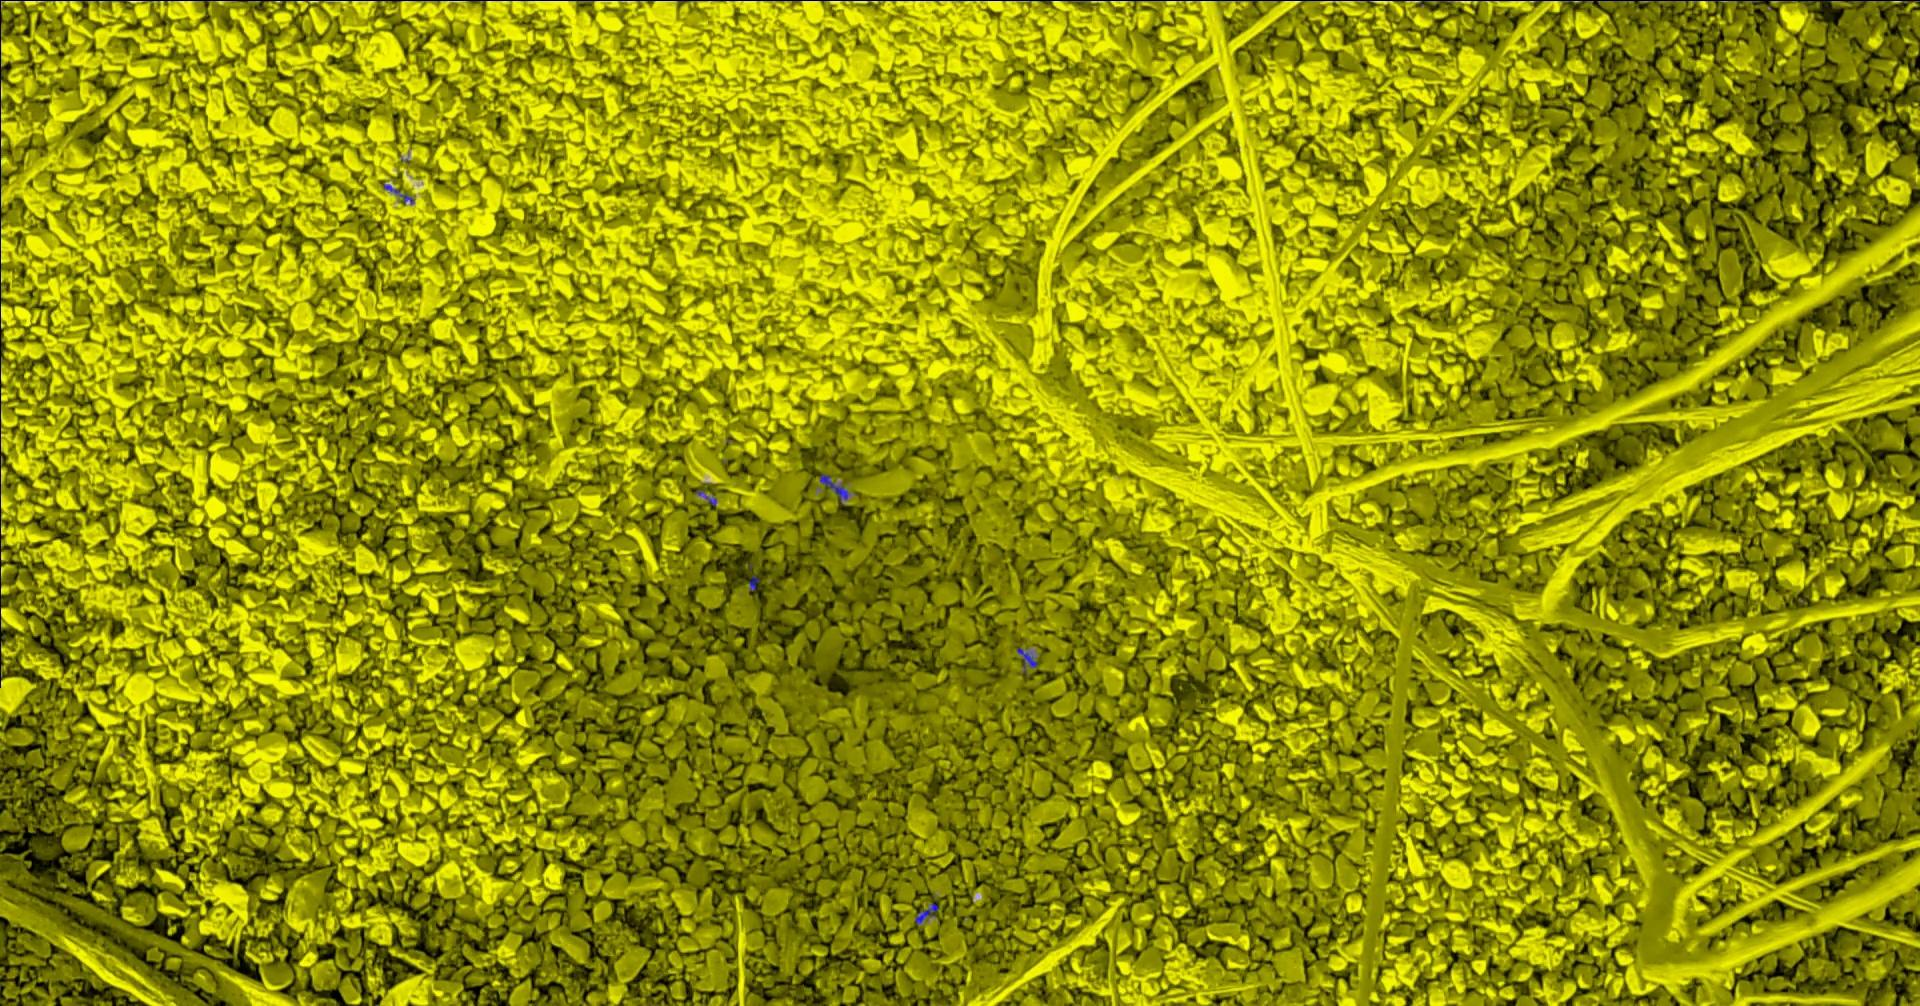ant: (819, 473, 848, 502), (382, 183, 413, 205), (1016, 647, 1037, 673), (914, 902, 938, 925), (695, 489, 716, 506), (748, 574, 759, 589)
